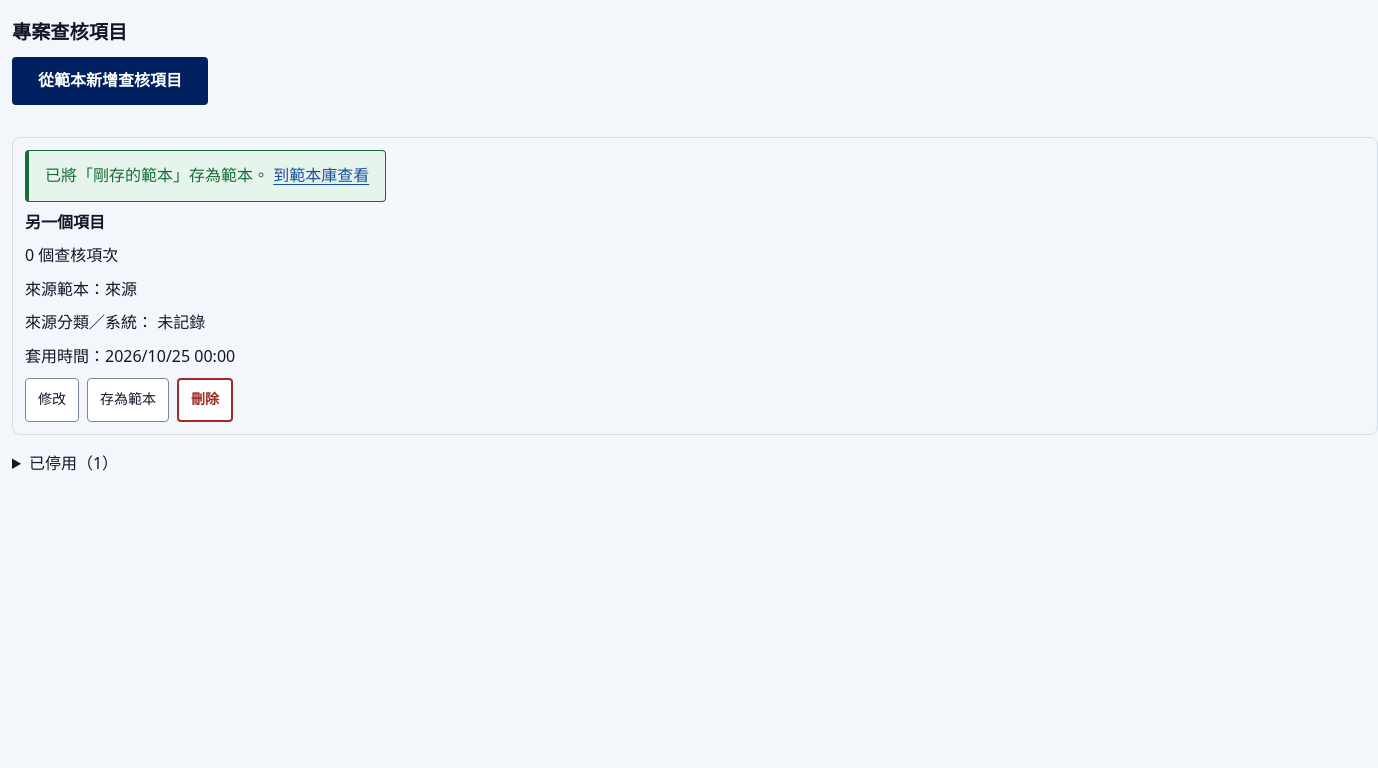
it: IP-AC23：停用與恢復 › 點恢復時清掉前一次的成功提示與存為範本提示（UDS-R18）
The image size is (1378, 768).
Expected: the text "已將「剛存的範本」存為範本。 到範本庫查看" is shown, [25,150,386,202]
Click the heading "已停用（1）". click: (74, 462)
box: [29,452,118,474]
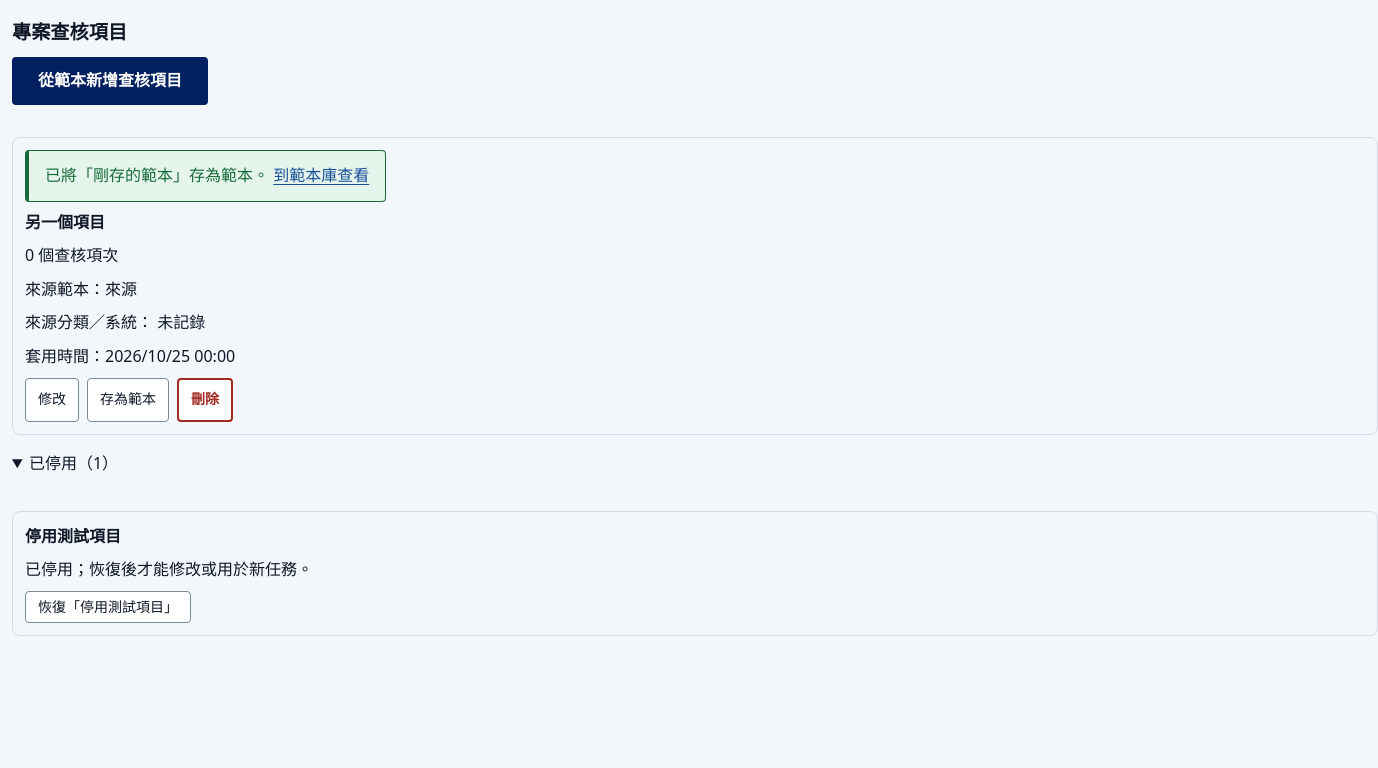
Click the button "恢復「停用測試項目」". click: (108, 607)
box: [25,591,191,623]
(page scrolled)
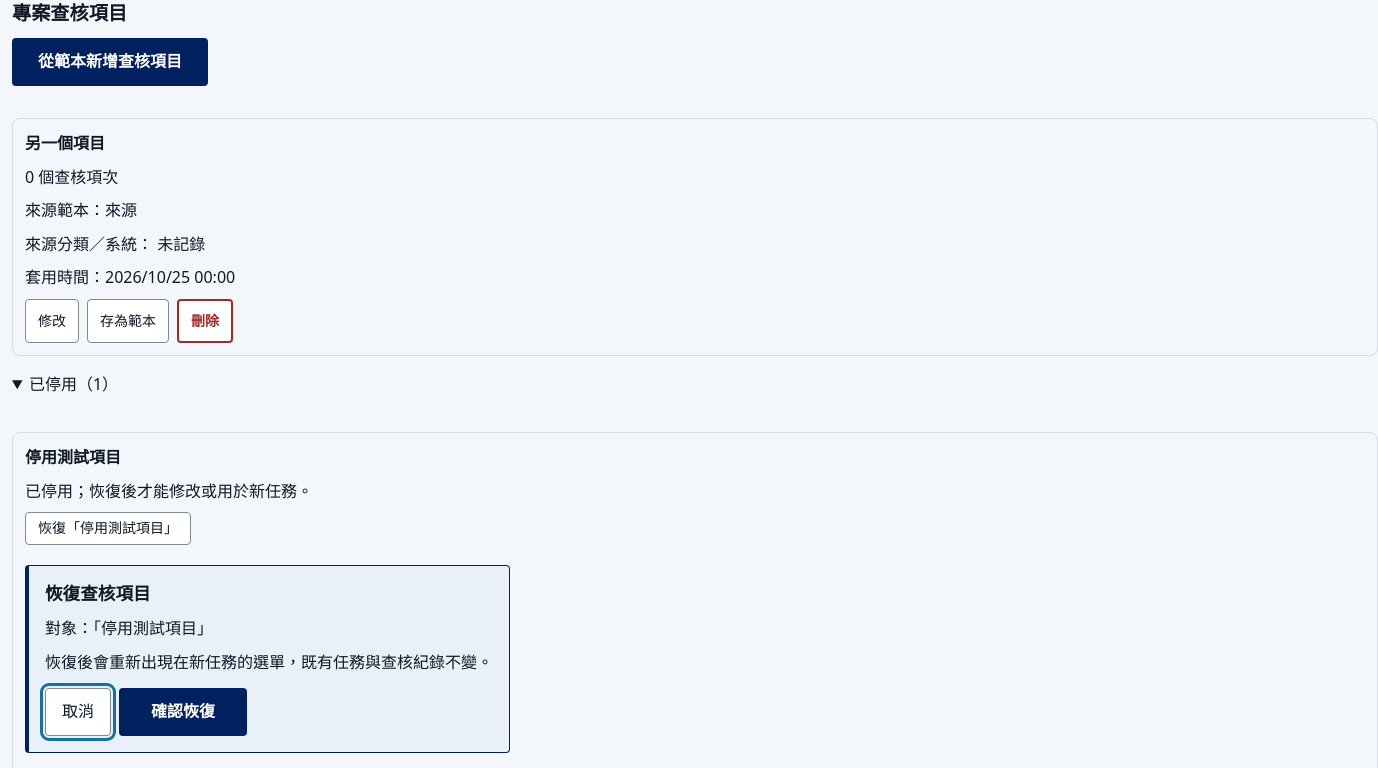
Expected: the text "已將「剛存的範本」存為範本" is gone
Expected: the message "已將「剛存的範本」存為範本。 到範本庫查看" is gone
